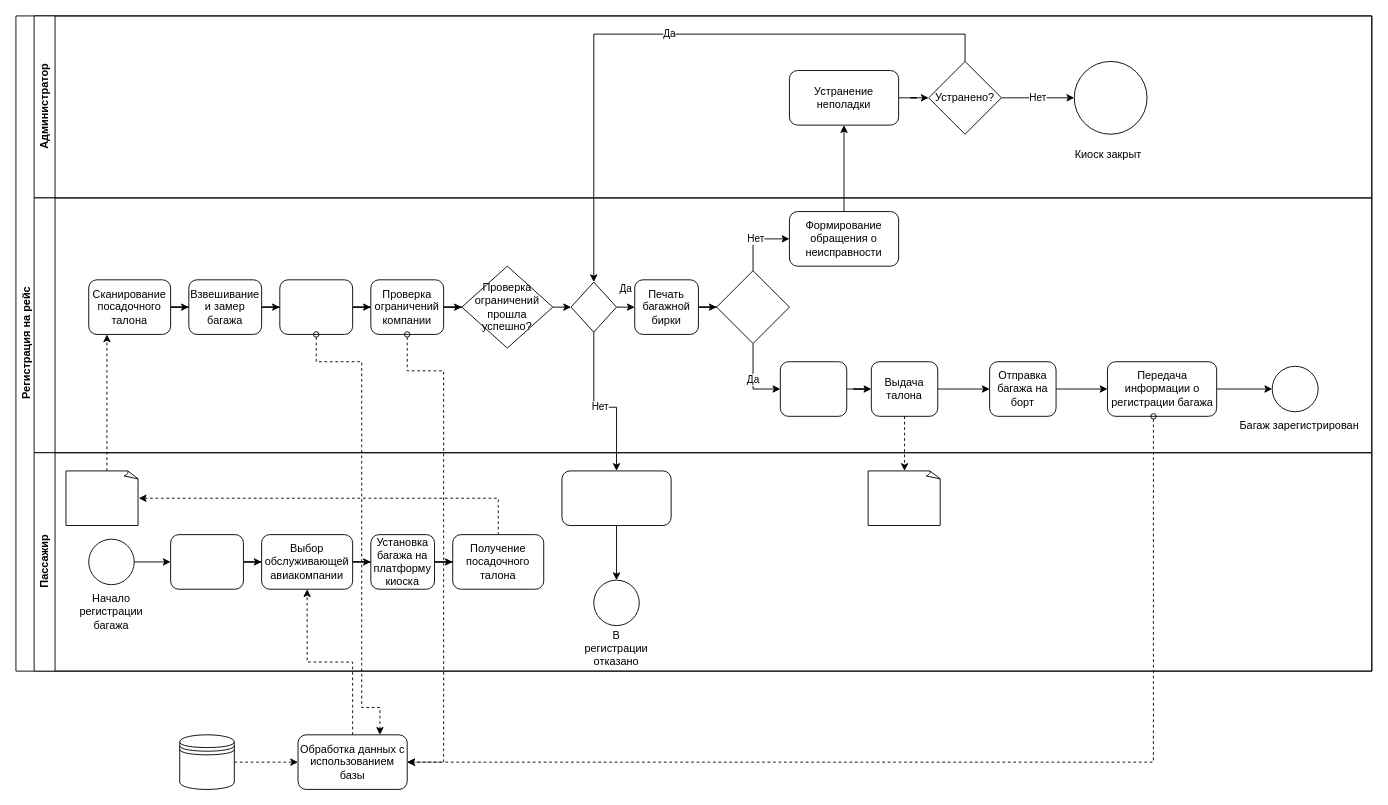
Some shapes in this 1388 by 805 pixel diagram are drawn without their labels. Here are the shapes that lost their labels. From the top down, the box of each, then its label:
(279, 279, 353, 334): Проверка регистрации пассажира
(33, 197, 1372, 453): Киоск SBD
(716, 270, 789, 344): Бирка напечатана?
(779, 361, 847, 416): Наклейка багажной бирки
(65, 470, 139, 526): Посадочный талон
(561, 470, 671, 526): Возврат багажа
(867, 470, 941, 526): Талон на багаж
(170, 534, 243, 589): Активация стойки SBD
(179, 734, 234, 789): База данных
